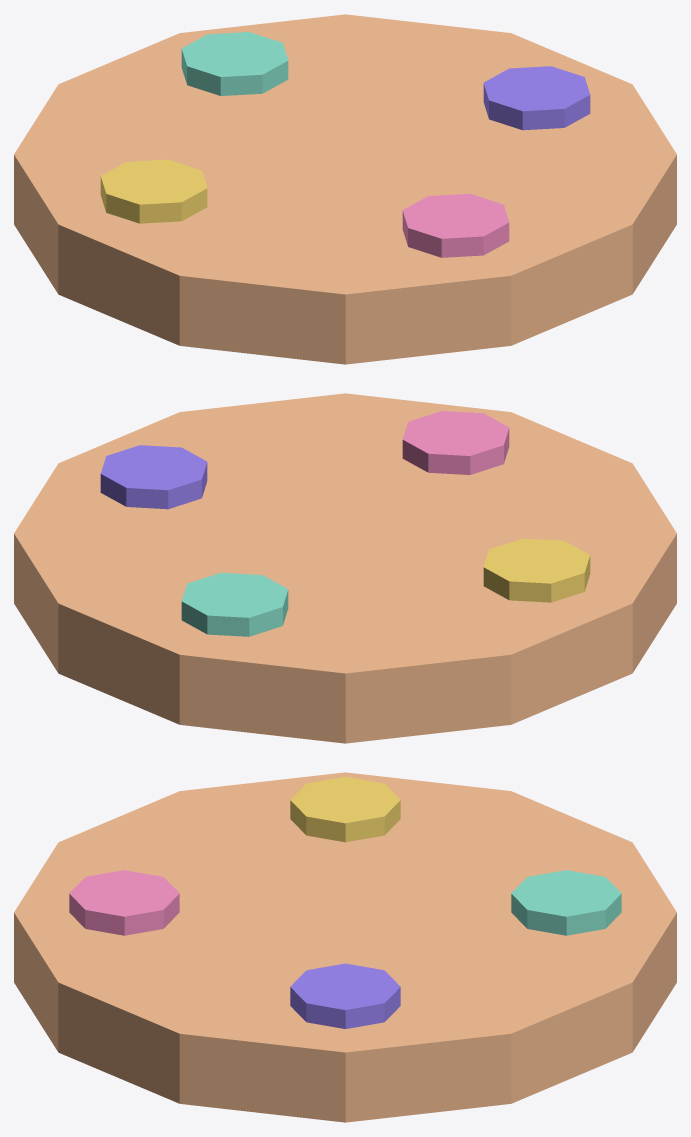
3 views of the same model, one above another, from view 1: azimuth 30°, elevation 25°; view 2: azimuth 150°, elevation 25°; view 3: azimuth 270°, elevation 25° (orthographic).
Visible parts, largest first — view 1: Palette board, Paint patch, Paint patch.003, Paint patch.002, Paint patch.001; view 2: Palette board, Paint patch, Paint patch.001, Paint patch.002, Paint patch.003; view 3: Palette board, Paint patch.002, Paint patch, Paint patch.001, Paint patch.003.
Part boxes in pixels (bbox=[...]): Palette board: bbox=[14, 14, 676, 364]; Paint patch: bbox=[483, 66, 590, 130]; Paint patch.003: bbox=[402, 193, 509, 257]; Paint patch.002: bbox=[100, 159, 207, 223]; Paint patch.001: bbox=[181, 32, 288, 95]; Palette board: bbox=[14, 393, 676, 743]; Paint patch: bbox=[100, 445, 207, 509]; Paint patch.001: bbox=[181, 572, 288, 636]; Paint patch.002: bbox=[483, 538, 590, 602]; Paint patch.003: bbox=[402, 411, 509, 474]; Palette board: bbox=[14, 772, 676, 1122]; Paint patch.002: bbox=[290, 776, 400, 842]; Paint patch: bbox=[290, 963, 400, 1028]; Paint patch.001: bbox=[511, 870, 621, 935]; Paint patch.003: bbox=[69, 870, 179, 935].
Size of the model in its own units: 0.3 by 0.0445 by 0.3.
1 material, 1 textured.
